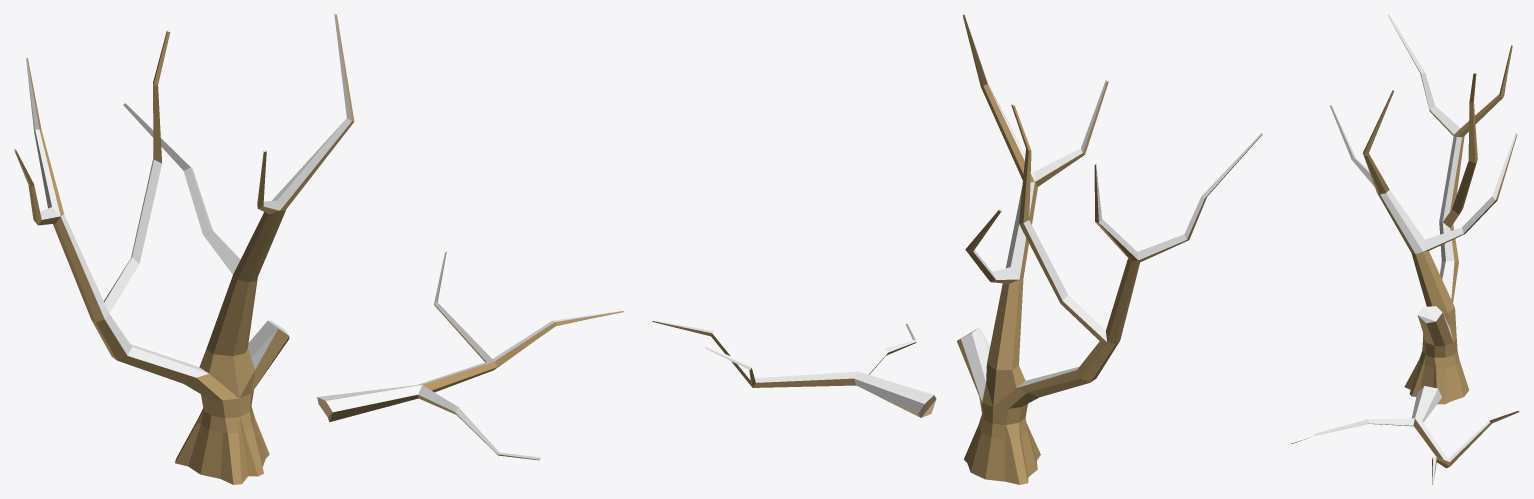
The model's file is Oak_Tree_NoLeaves_crk_l_Snow_01_LOD.fbx.
3 views of the same model, side by side, from view 1: azimuth 30°, elevation 25°; view 2: azimuth 150°, elevation 25°; view 3: azimuth 270°, elevation 25° (orthographic). The views are drawn at different scales.
Visible parts, largest first — view 1: Oak_Tree_NoLeaves_crk_l_Snow_01_LOD0; view 2: Oak_Tree_NoLeaves_crk_l_Snow_01_LOD0; view 3: Oak_Tree_NoLeaves_crk_l_Snow_01_LOD0.
Boxes of the visible parts, x1=… form: Oak_Tree_NoLeaves_crk_l_Snow_01_LOD0: x1=14, y1=14, x2=623, y2=484; Oak_Tree_NoLeaves_crk_l_Snow_01_LOD0: x1=652, y1=14, x2=1262, y2=484; Oak_Tree_NoLeaves_crk_l_Snow_01_LOD0: x1=1291, y1=14, x2=1519, y2=484.
Size of what is drawn, in the model's own units: 1248 by 848 by 536.
